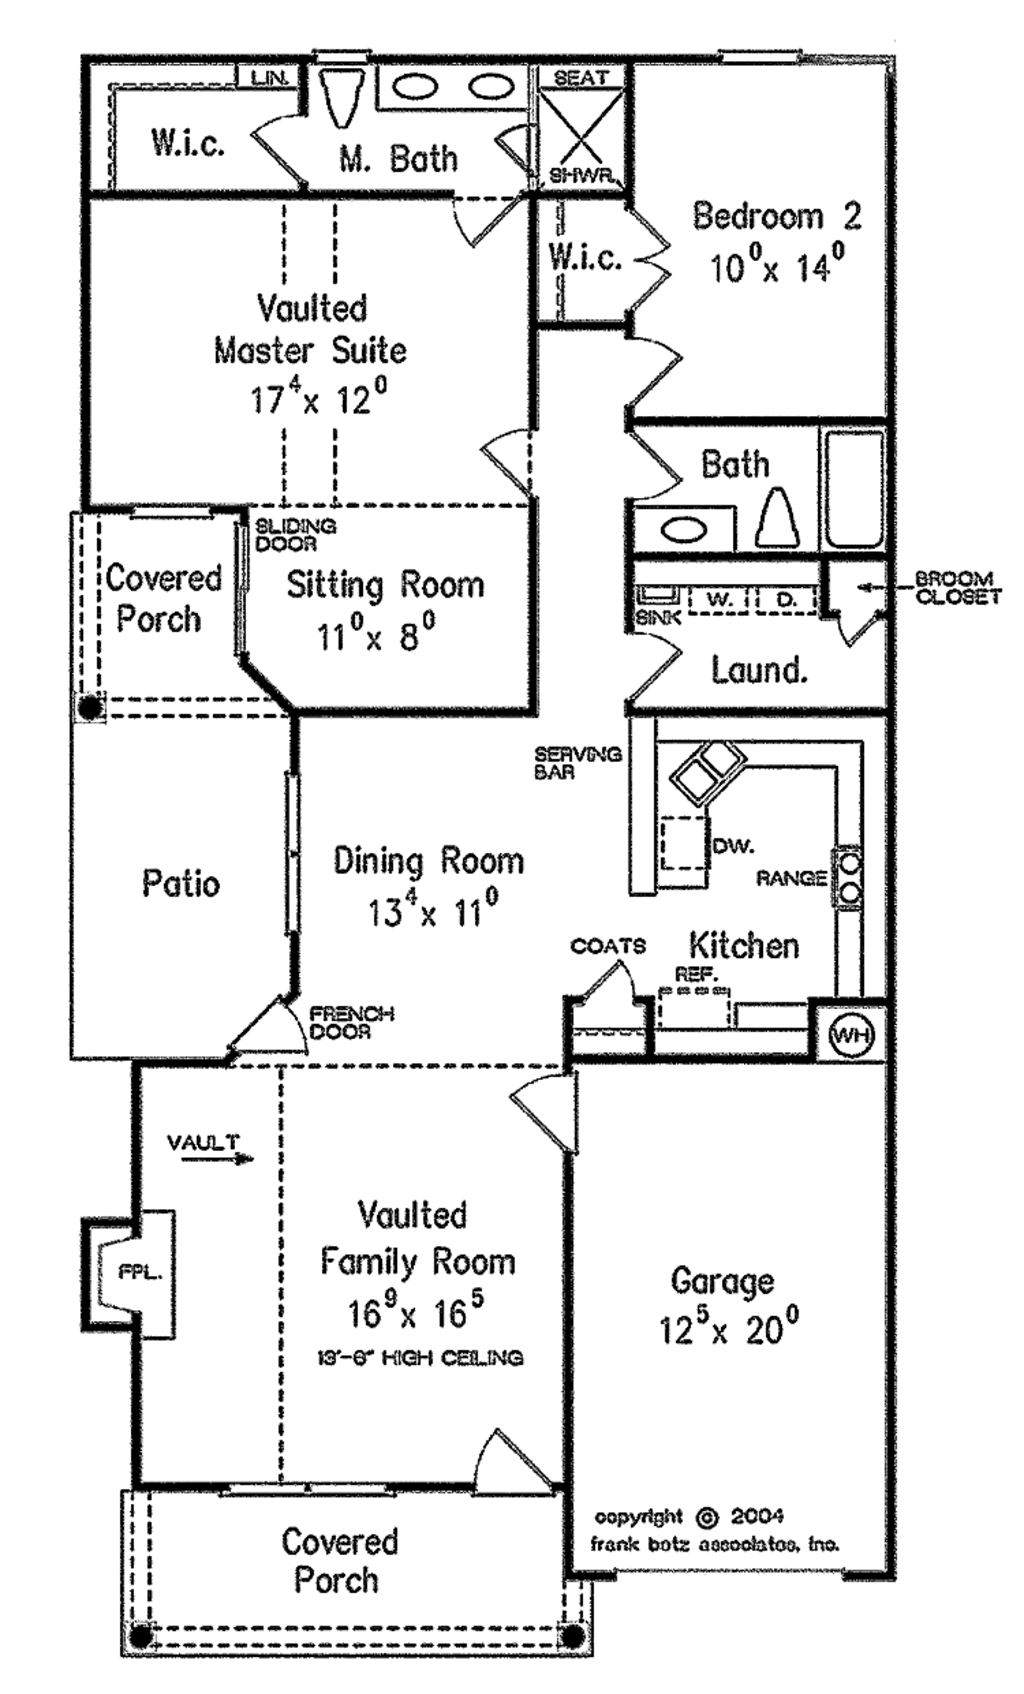door: (505, 1064, 616, 1172), (229, 985, 343, 1068), (447, 185, 553, 272), (608, 188, 671, 327), (245, 100, 324, 203), (597, 322, 684, 411), (460, 1429, 556, 1508), (476, 408, 539, 503), (829, 587, 926, 645), (621, 414, 681, 499), (571, 953, 650, 1012), (619, 622, 674, 701), (484, 108, 534, 174)
large_sink: (297, 51, 381, 132), (740, 451, 789, 543)
small_sink: (376, 45, 539, 114), (626, 492, 747, 544)
tub: (816, 423, 908, 557)
twin_sink: (675, 734, 763, 803)
window: (209, 1469, 405, 1508), (711, 31, 855, 77), (117, 485, 226, 537)
